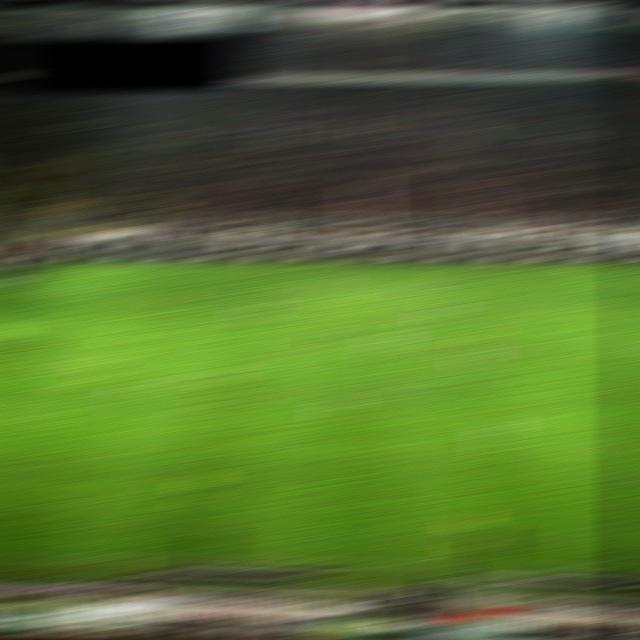bigarea_top_inner: (104, 288, 138, 299), (620, 290, 640, 299)
bigarea_top_outter: (0, 288, 23, 297)
bottom_arc_area_intersection: (23, 374, 55, 382)
corner: (30, 261, 64, 269)
halfcircle_bottom: (370, 385, 403, 394)
halfcircle_top: (362, 319, 394, 327)
midline_bottom_intersection: (389, 559, 422, 568)
midline_top_intersection: (356, 263, 389, 271)
smallarea_top_inner: (0, 317, 21, 325)
top_arc_area_intersection: (73, 322, 105, 331)
